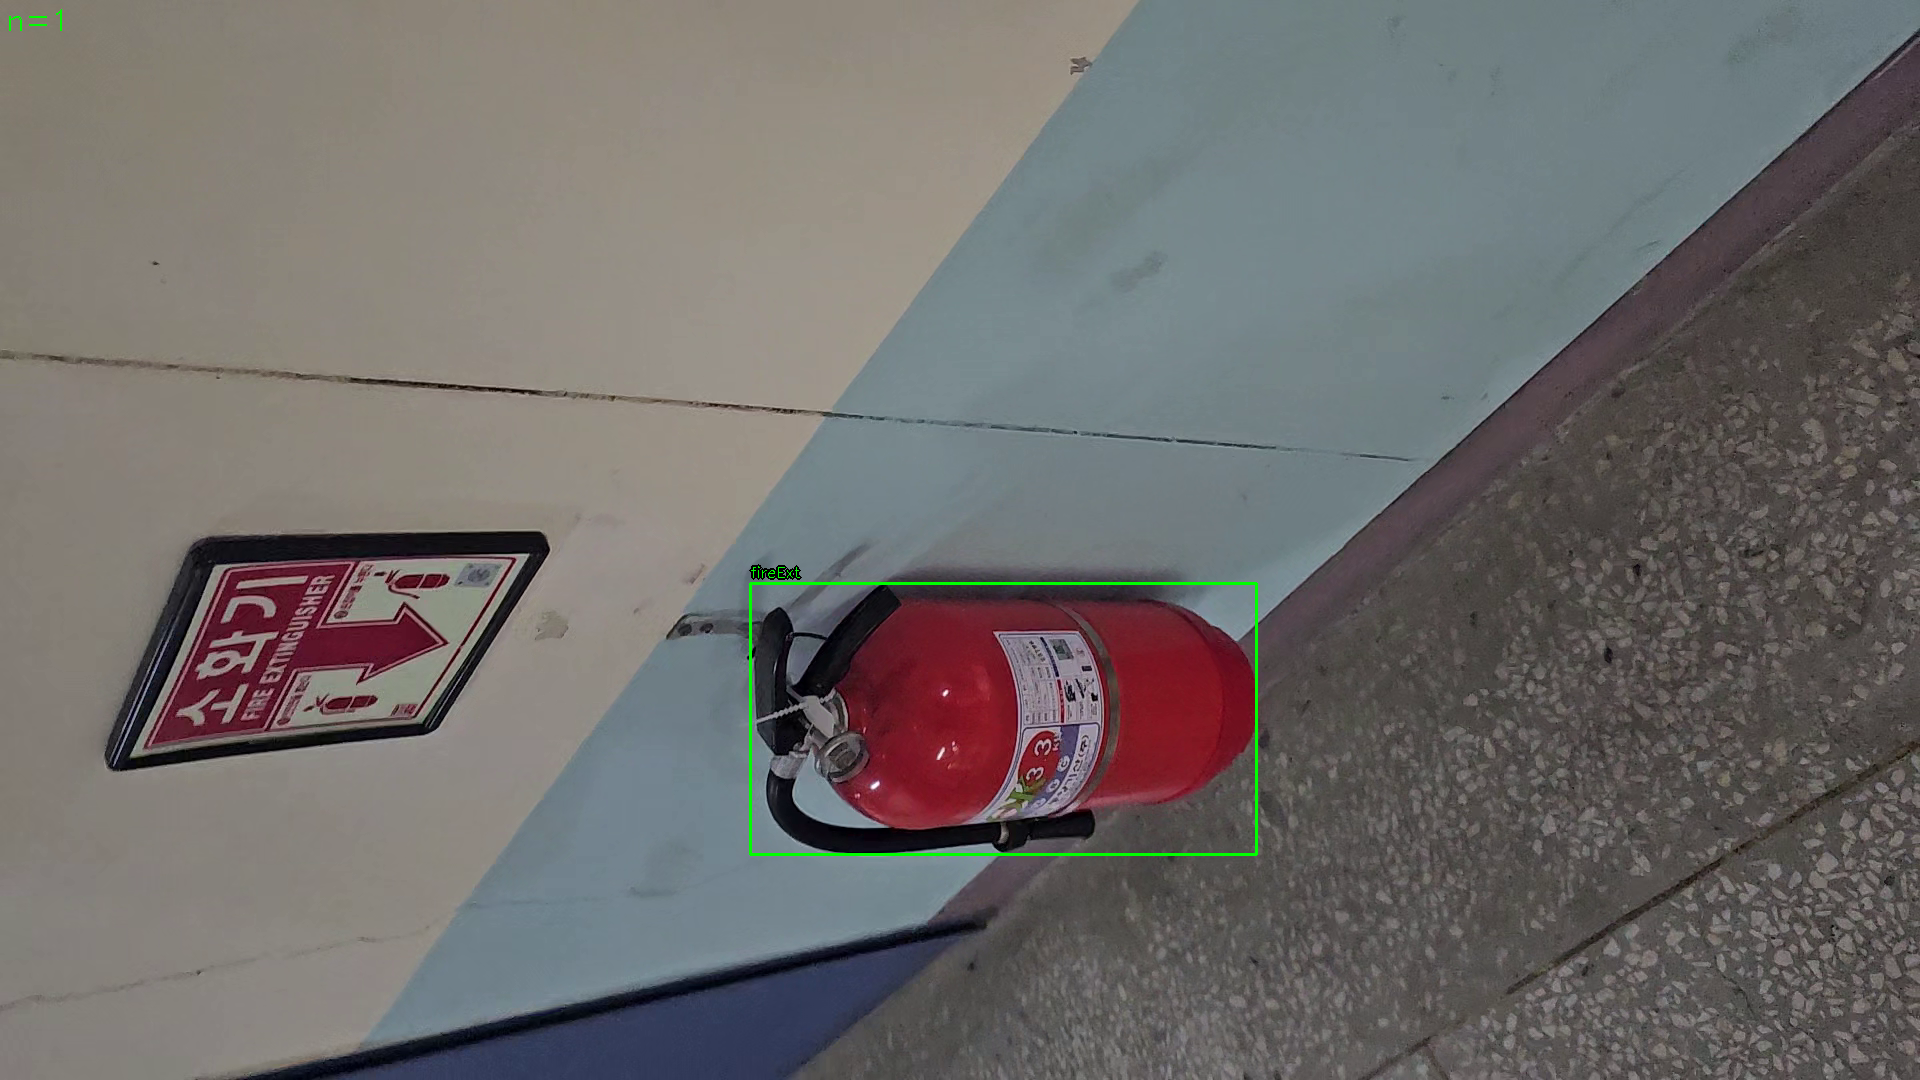lane: (750, 583, 1257, 855)
